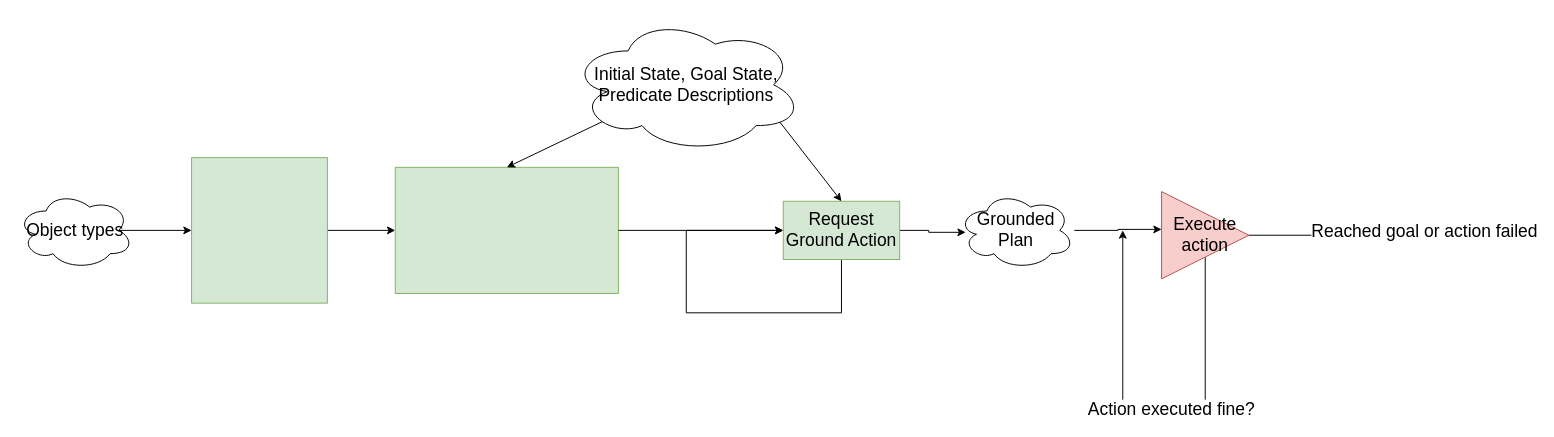
This 1554x437 diagram has some shape labels left out. Here are the shapes that lost their labels. From the top down, the centre of each, then its label:
point 259,230: Give Domain Introduction
point 506,229: Request Action Predicate Name Sequence
